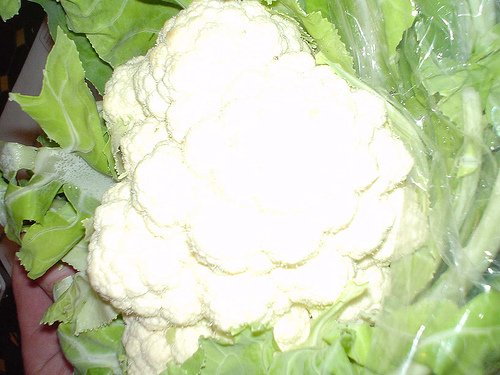cauliflower: (1, 1, 499, 374)
